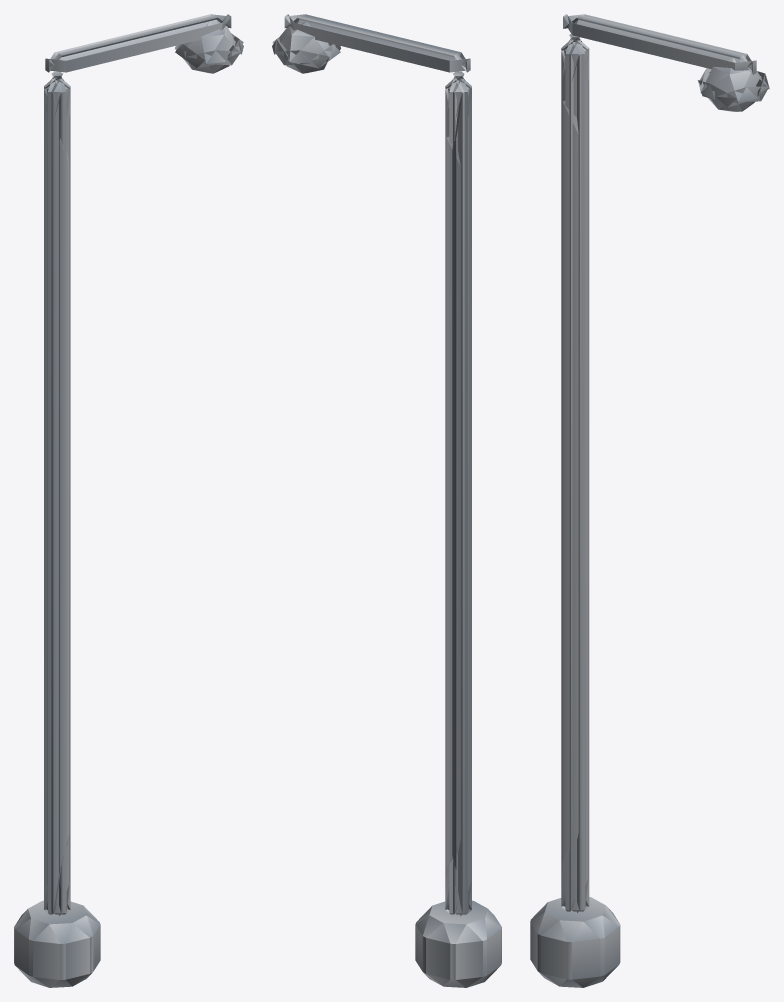
Rendered from dt_street_lamp.fbx.
The picture shows the model from 3 angles, left to right: view 1: azimuth 30°, elevation 25°; view 2: azimuth 150°, elevation 25°; view 3: azimuth 330°, elevation 25°; orthographic projection. The views are drawn at different scales.
Visible parts, largest first — view 1: dt_street_lamp; view 2: dt_street_lamp; view 3: dt_street_lamp.
Part boxes in pixels (left/top/right/bottom): dt_street_lamp: left=14, top=14, right=243, bottom=987; dt_street_lamp: left=272, top=14, right=501, bottom=987; dt_street_lamp: left=530, top=14, right=769, bottom=987.
Size of the model in its own units: 234 by 950 by 76.7.
